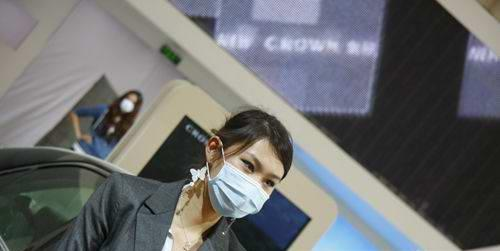OK: (210, 150, 277, 217), (120, 97, 139, 116)
